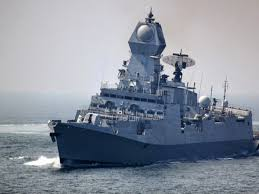tau_muctieu: (50, 18, 255, 157)
